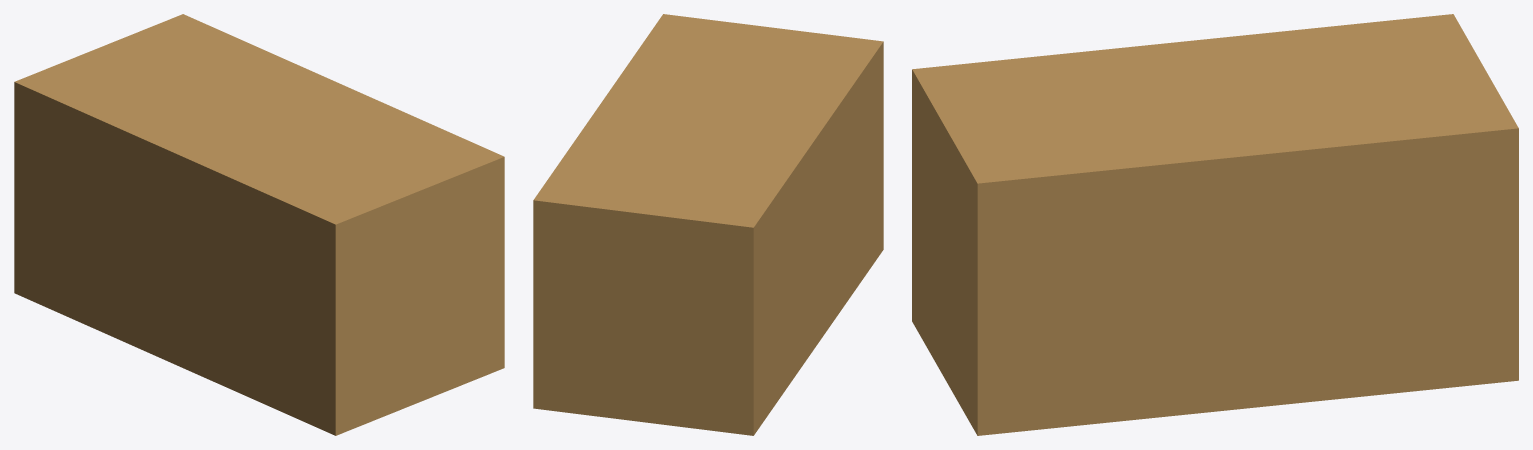
The picture shows the model from 3 angles, left to right: view 1: azimuth 30°, elevation 25°; view 2: azimuth 150°, elevation 25°; view 3: azimuth 270°, elevation 25°; orthographic projection. The views are drawn at different scales.
Visible parts, largest first — view 1: GAP-12-R-king_stud-p2; view 2: GAP-12-R-king_stud-p2; view 3: GAP-12-R-king_stud-p2.
Part boxes in pixels (x1=…): GAP-12-R-king_stud-p2: x1=14, y1=14, x2=504, y2=435; GAP-12-R-king_stud-p2: x1=533, y1=14, x2=883, y2=435; GAP-12-R-king_stud-p2: x1=912, y1=14, x2=1518, y2=435.
Bounding box in the file's own units: 0.0649 × 0.045 × 0.0981.
